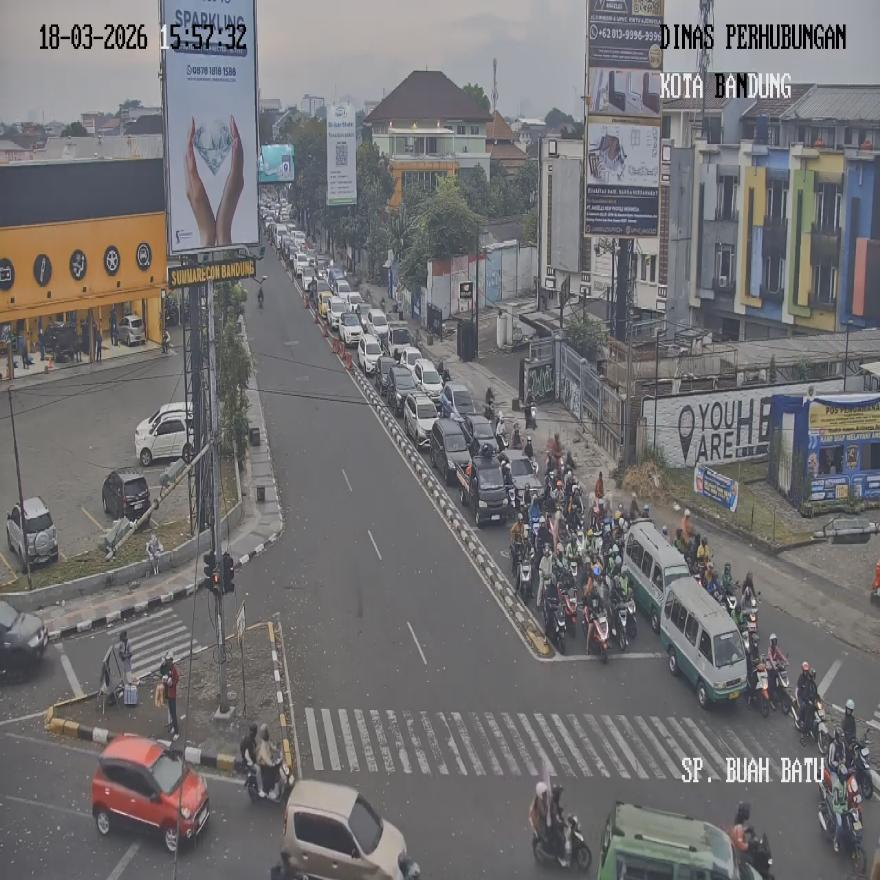Motor: (91, 732, 209, 851), (280, 780, 420, 880), (596, 799, 764, 880), (134, 402, 195, 466), (6, 496, 58, 570), (0, 598, 47, 678)
Truk: (818, 762, 864, 866), (531, 812, 591, 872), (245, 754, 293, 804), (608, 574, 636, 648), (848, 728, 874, 799), (793, 696, 825, 746), (741, 830, 773, 880), (543, 594, 567, 654), (586, 608, 610, 664), (512, 542, 534, 602), (556, 578, 578, 637), (747, 662, 770, 718), (769, 661, 792, 716), (146, 534, 162, 576)
